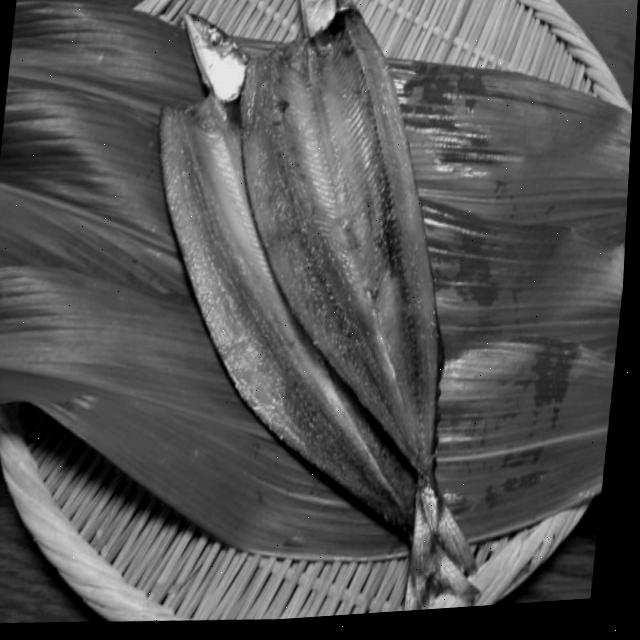熟制海鲜: (108, 0, 546, 633)
